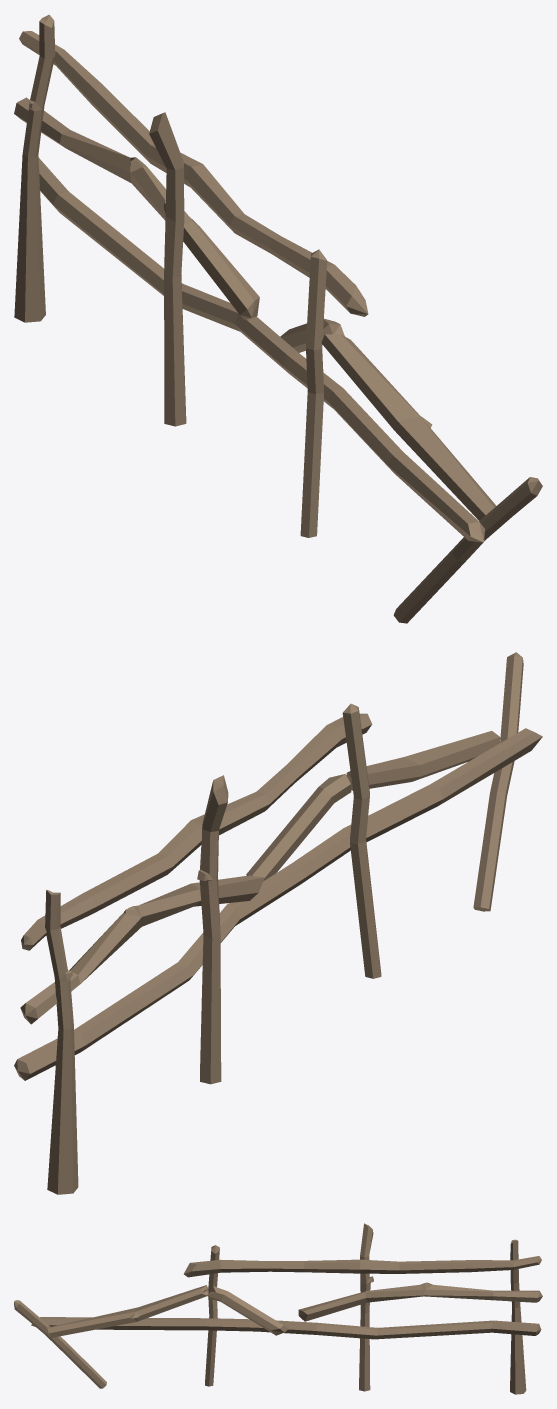
Rendered from SM_Prop_Makeshift_Fence_02.glb.
3 renders of one model, top to bottom at view 1: azimuth 30°, elevation 25°; view 2: azimuth 150°, elevation 25°; view 3: azimuth 270°, elevation 25°, orthographic. The views are drawn at different scales.
Parts seen in each view (by area): view 1: SM_Prop_Makeshift_Fence_02; view 2: SM_Prop_Makeshift_Fence_02; view 3: SM_Prop_Makeshift_Fence_02.
Boxes of the visible parts, box(x1,y1,x2,y2) form: SM_Prop_Makeshift_Fence_02: box(14, 14, 542, 623); SM_Prop_Makeshift_Fence_02: box(14, 652, 542, 1194); SM_Prop_Makeshift_Fence_02: box(14, 1223, 542, 1394).
Bounding box in the file's own units: 0.6098 × 2.42 × 6.92.
Materials: 1 (1 with a texture image).
